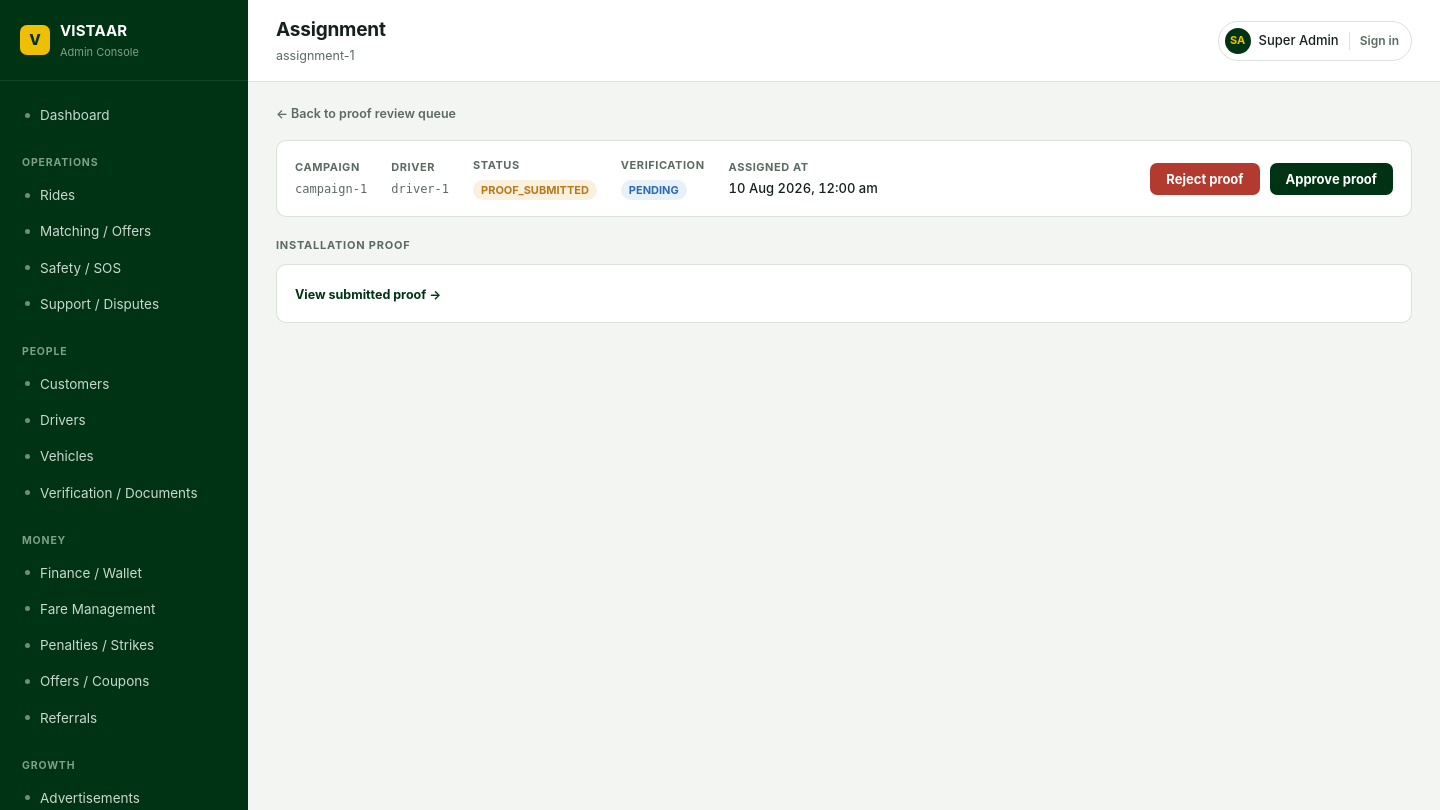
Test: AssignmentDetailPage › approves proof on a PROOF_SUBMITTED assignment
The image size is (1440, 810).
Click the button "Approve proof" at (1331, 178), box [1270,162,1393,194]
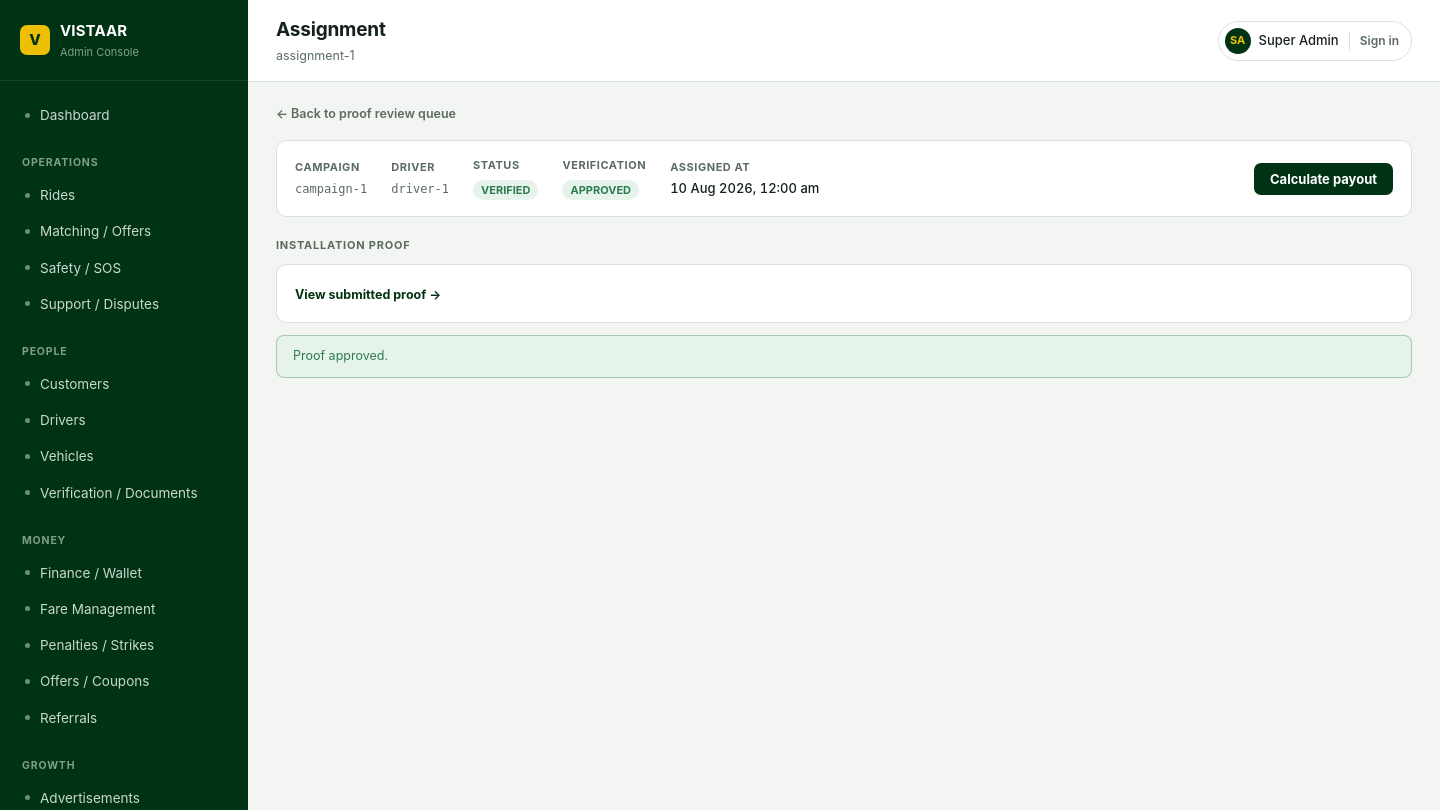
Expected: the text "Proof approved." is shown, [276,335,1412,378]
